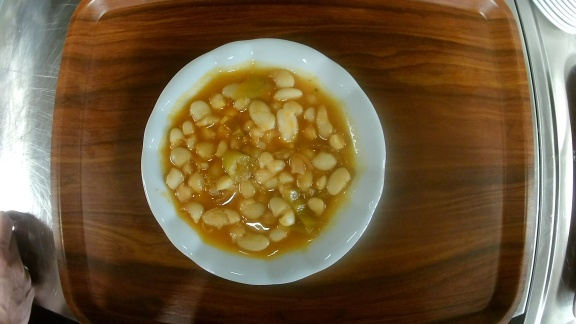kurufasulye: (140, 38, 386, 288)
